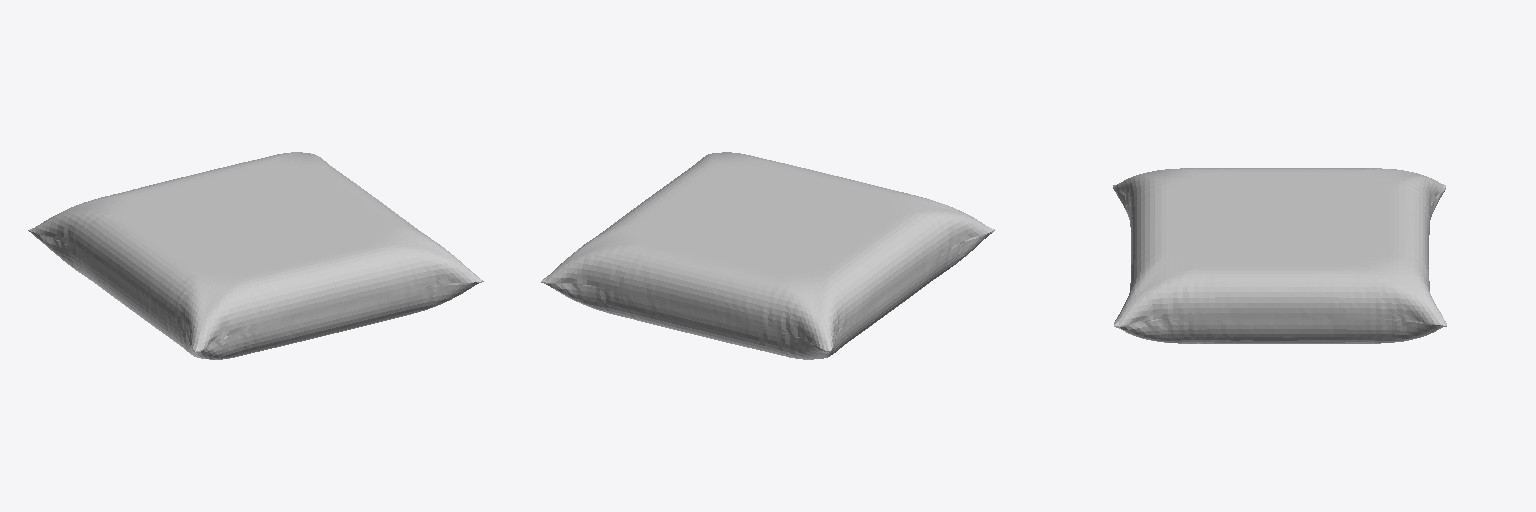
Rendered from pillowB.obj.
3 views of the same model, side by side, from view 1: azimuth 30°, elevation 25°; view 2: azimuth 150°, elevation 25°; view 3: azimuth 270°, elevation 25° (orthographic).
Parts seen in each view (by area): view 1: Plane; view 2: Plane; view 3: Plane.
Part boxes in pixels (x1,y1,x2,y2): Plane: (28,152,483,359); Plane: (541,152,994,359); Plane: (1113,168,1446,343).
Bounding box in the file's own units: 1.92 × 0.4568 × 1.92.